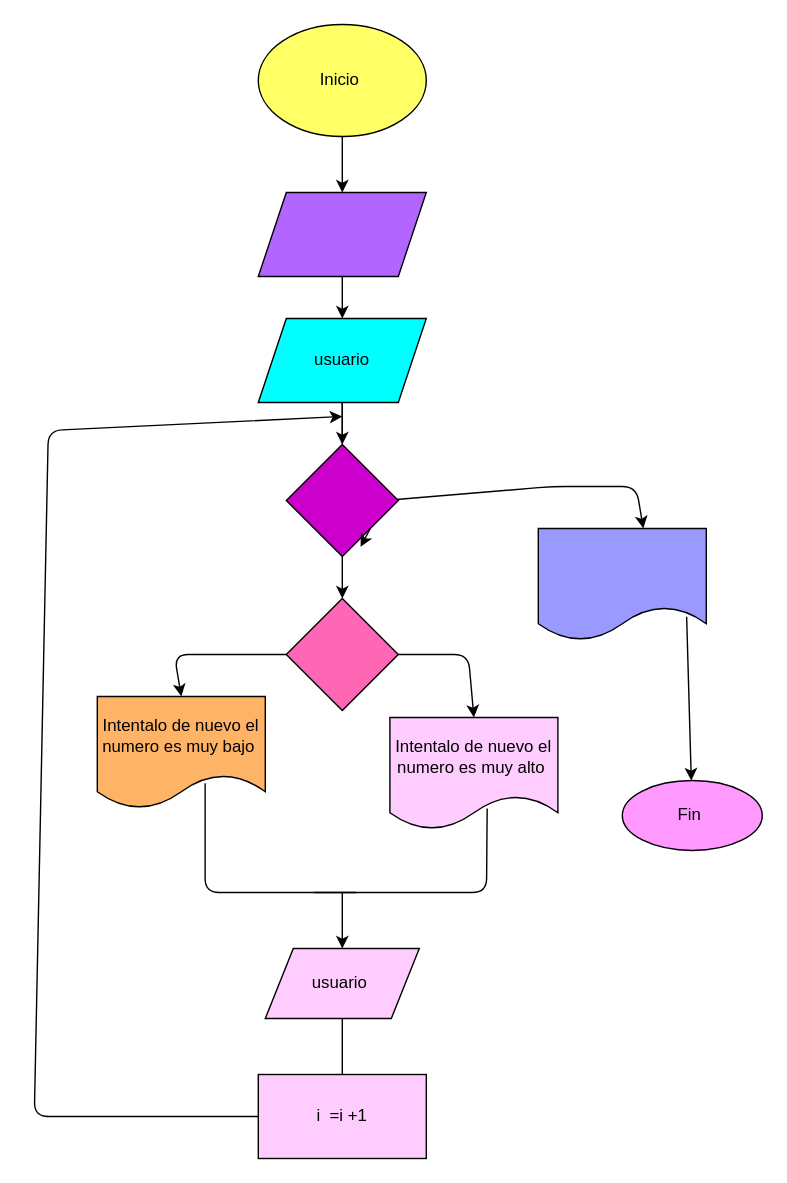
Some shapes in this 787 by 1183 pixel diagram are drawn without their labels. The shapes that lost their labels are listed below. From the top down, each one's centre as x and y in pixels, then its label:
At (341,233): "Z=numero generado por maquina".
At (341,499): "maq ! = usurio".
At (621,583): "ganaste".
At (341,653): "maquina > usuario".
